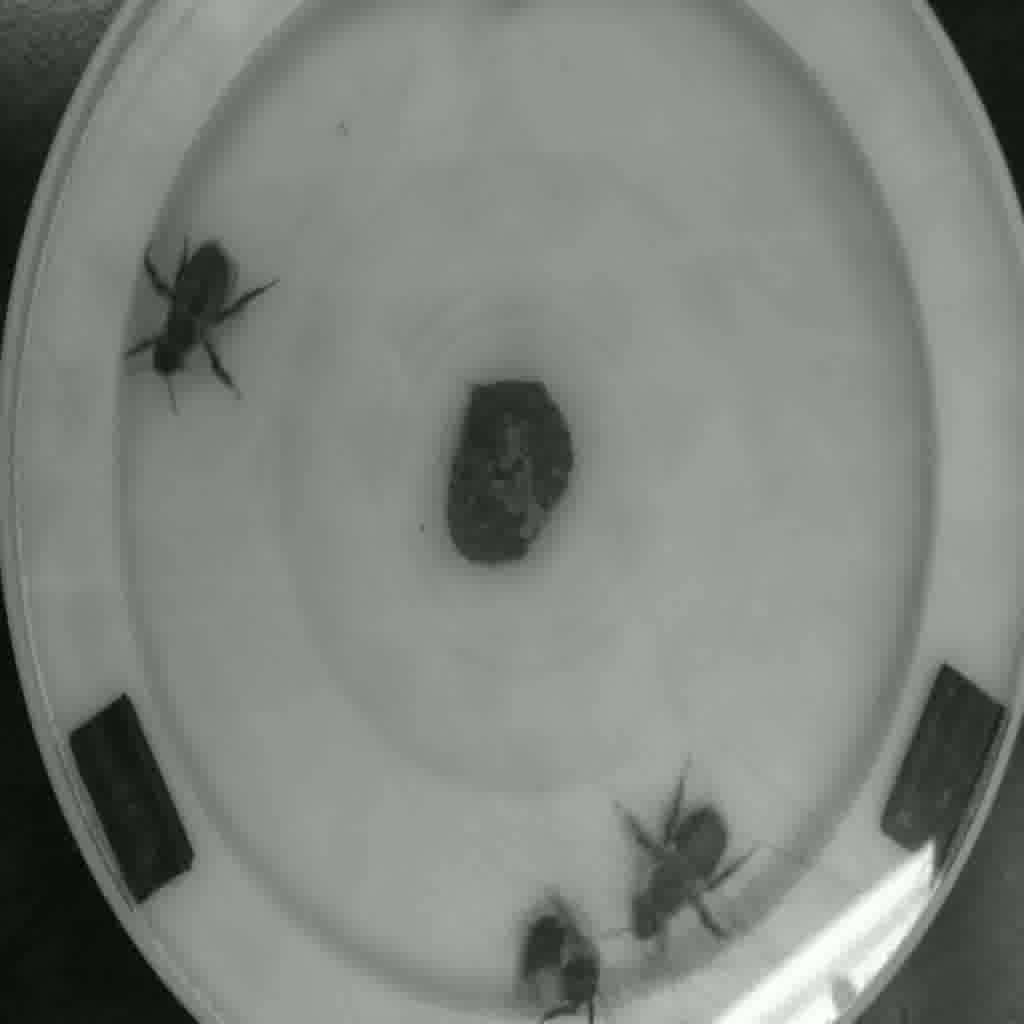bee: (114, 232, 277, 404), (619, 792, 755, 953), (501, 908, 619, 1024)
